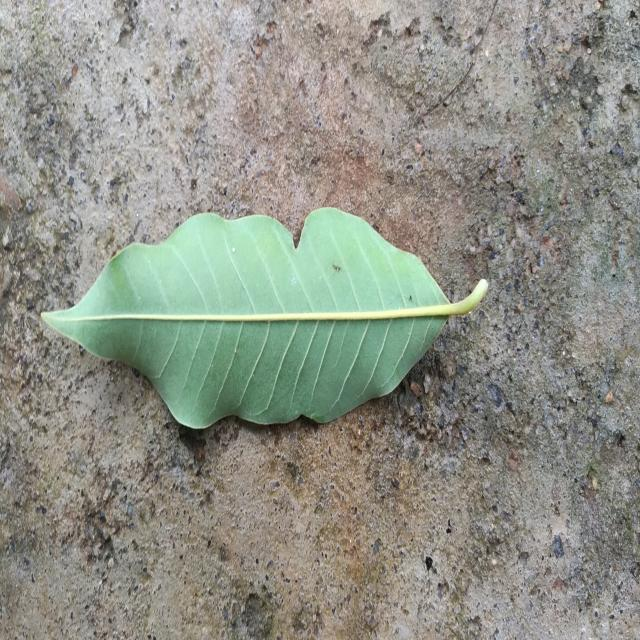coffee: (42, 207, 488, 429)
